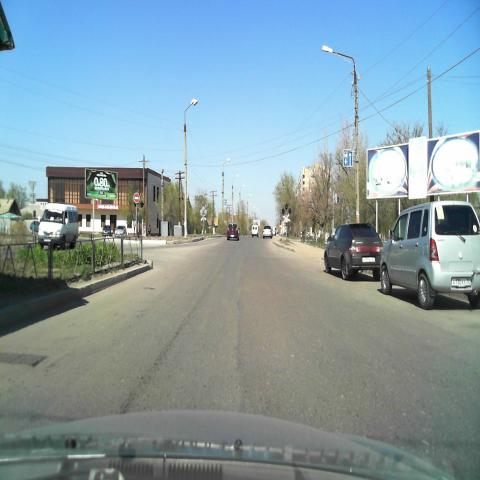5_11: (343, 149, 354, 168)
